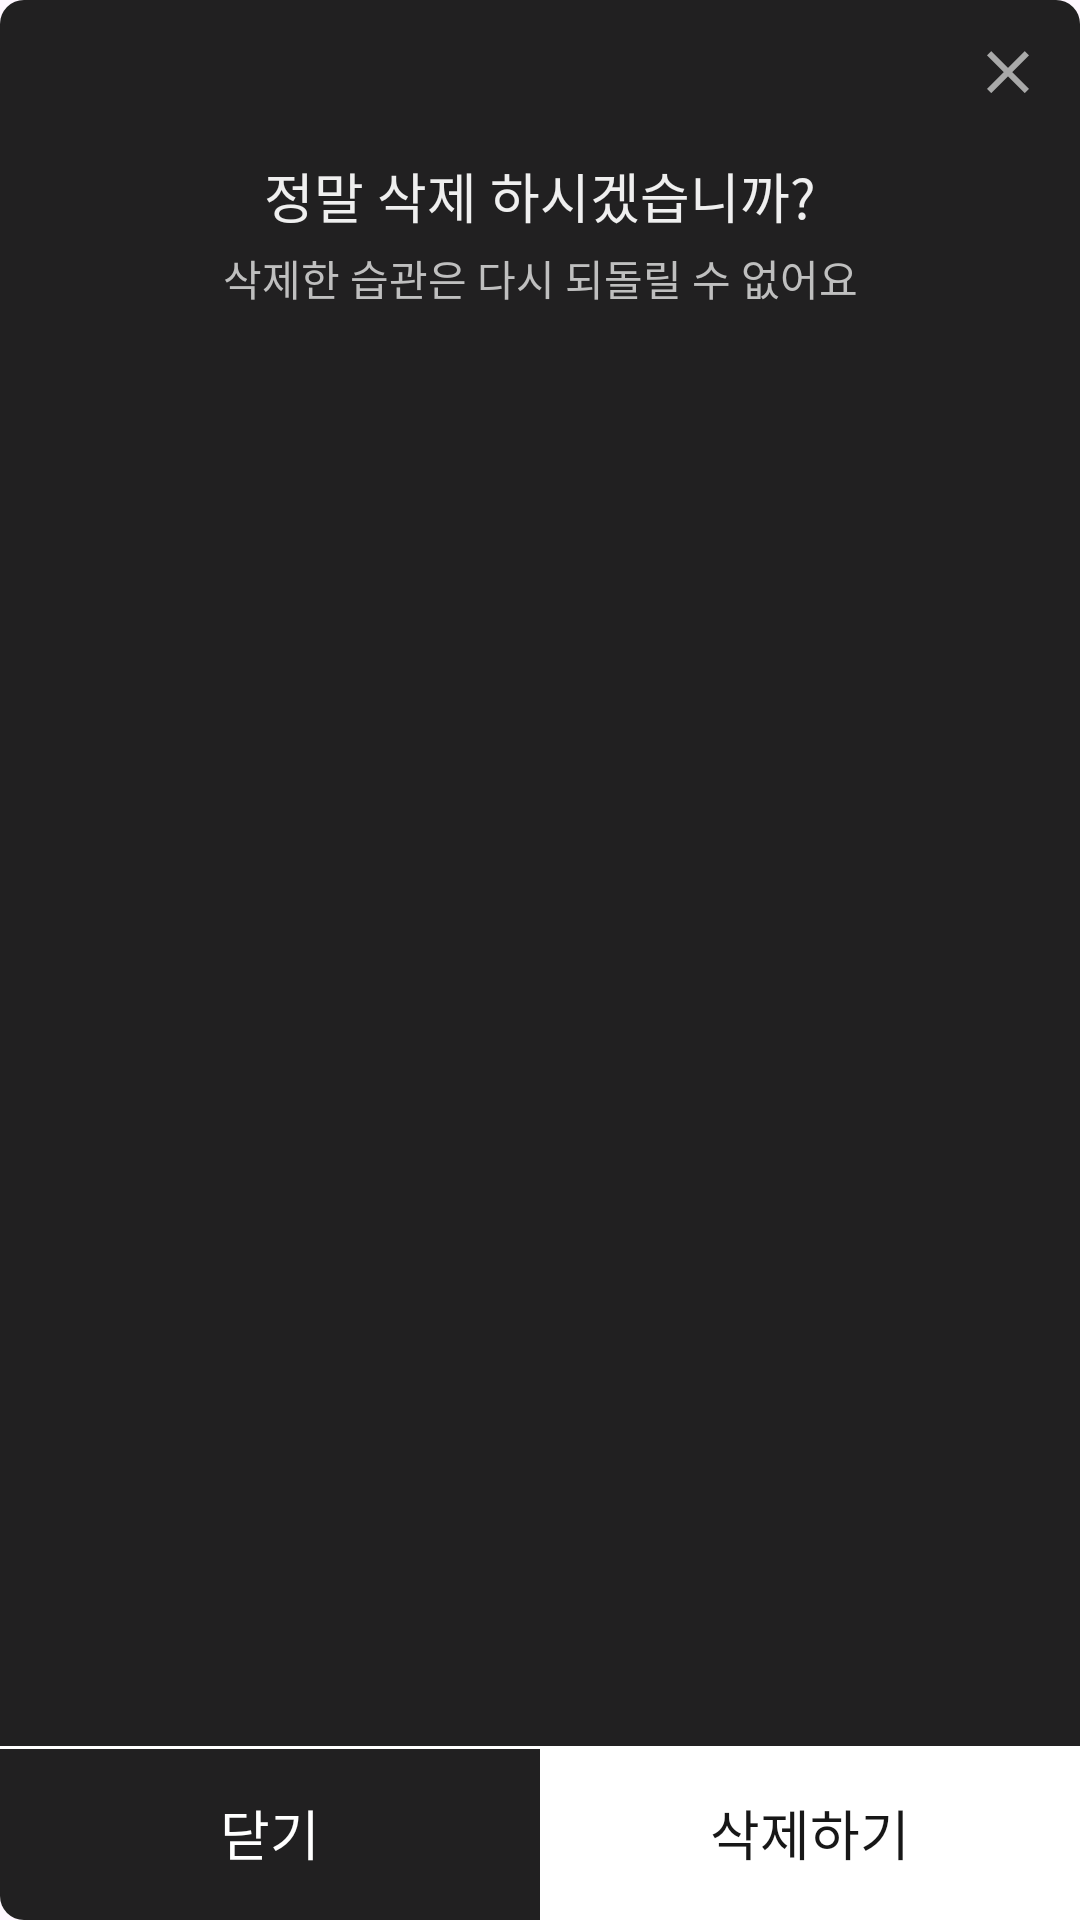

Where icons sit on this 1080×1920 app screen, as (x1, y1, x2, y2):
close: (987, 51, 1029, 93)
